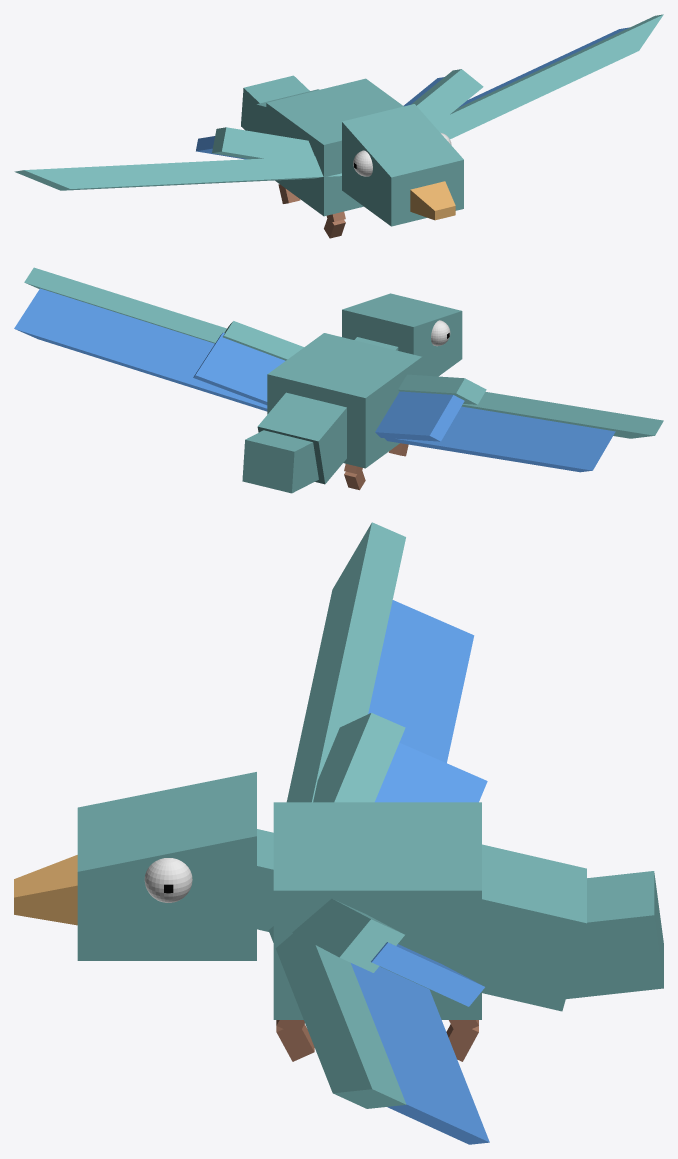
File: Birdpool.fbx
The picture shows the model from 3 angles, top to bottom: view 1: azimuth 30°, elevation 25°; view 2: azimuth 150°, elevation 25°; view 3: azimuth 270°, elevation 25°; orthographic projection. The views are drawn at different scales.
Visible parts, largest first — view 1: Cube, Cube.004, Cube.002, Cube.003, Cube.001; view 2: Cube, Cube.002, Cube.004, Cube.001, Cube.003; view 3: Cube, Cube.004, Cube.002, Cube.003, Cube.001.
Part boxes in pixels (x1=…): Cube: x1=241, y1=75, x2=463, y2=238; Cube.004: x1=14, y1=156, x2=341, y2=190; Cube.002: x1=435, y1=14, x2=663, y2=139; Cube.003: x1=196, y1=127, x2=314, y2=159; Cube.001: x1=403, y1=69, x2=483, y2=126; Cube: x1=242, y1=293, x2=462, y2=493; Cube.002: x1=14, y1=267, x2=267, y2=411; Cube.004: x1=384, y1=391, x2=663, y2=472; Cube.001: x1=193, y1=321, x2=303, y2=405; Cube.003: x1=375, y1=374, x2=486, y2=441; Cube: x1=14, y1=772, x2=663, y2=1061; Cube.004: x1=286, y1=522, x2=474, y2=802; Cube.002: x1=268, y1=926, x2=489, y2=1144; Cube.003: x1=313, y1=713, x2=487, y2=802; Cube.001: x1=292, y1=898, x2=484, y2=1006.
Size of the model in its own units: 1286 by 237 by 623.
